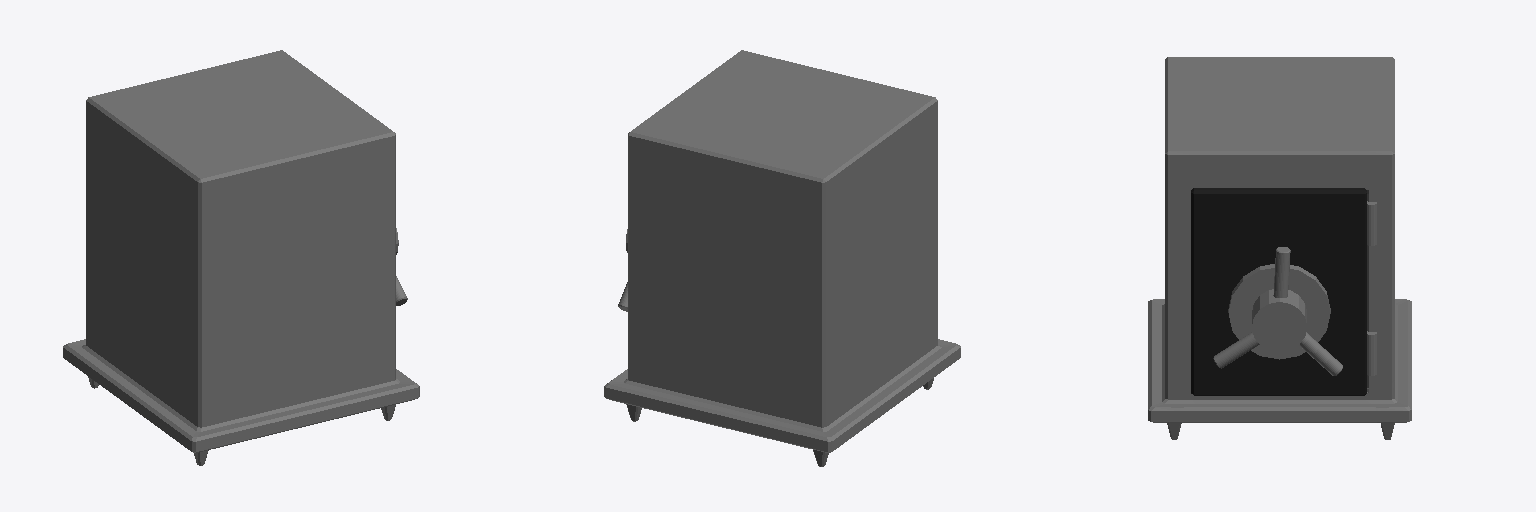
File: kluis.obj
3 views of the same model, side by side, from view 1: azimuth 30°, elevation 25°; view 2: azimuth 150°, elevation 25°; view 3: azimuth 270°, elevation 25° (orthographic).
Parts seen in each view (by area): view 1: kluis group3; view 2: kluis group3; view 3: kluis group3, group3 kluisdeur, group3 onderding, group3 ding, group3 group4 handel2, group3 handel group4, group3 group4 handel1.
Part boxes in pixels (bbox=[...]): kluis group3: bbox=[63, 50, 419, 452]; kluis group3: bbox=[604, 50, 960, 452]; kluis group3: bbox=[1148, 57, 1411, 422]; group3 kluisdeur: bbox=[1191, 188, 1366, 395]; group3 onderding: bbox=[1228, 264, 1330, 359]; group3 ding: bbox=[1252, 289, 1306, 351]; group3 group4 handel2: bbox=[1273, 247, 1290, 297]; group3 handel group4: bbox=[1299, 332, 1342, 375]; group3 group4 handel1: bbox=[1213, 332, 1259, 368].
Bounding box in the file's own units: 1.3 × 1.4 × 1.15.